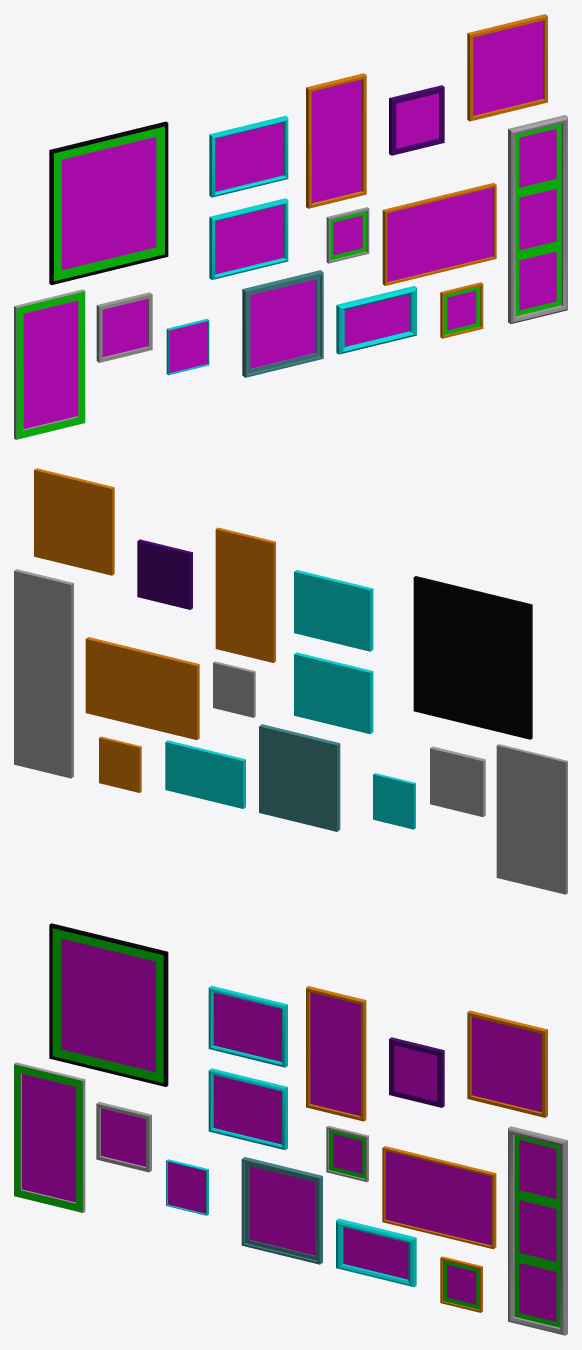
The picture shows the model from 3 angles, top to bottom: view 1: azimuth 30°, elevation 25°; view 2: azimuth 150°, elevation 25°; view 3: azimuth 330°, elevation 25°; orthographic projection.
Parts seen in each view (by area): view 1: polySurface174; view 2: polySurface174; view 3: polySurface174.
Part boxes in pixels (x1,y1,x2,y2): polySurface174: (14, 14, 567, 439); polySurface174: (14, 468, 567, 894); polySurface174: (14, 923, 567, 1335).
Bounding box in the file's own units: 457 × 237 × 4.93.
